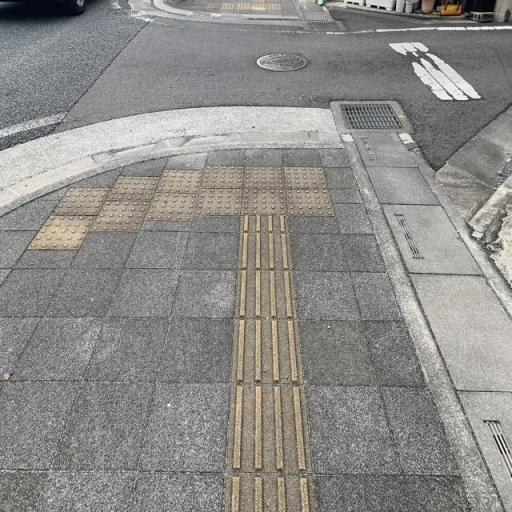line: (224, 382, 318, 477), (234, 314, 302, 385), (235, 267, 297, 317), (236, 230, 293, 271)
